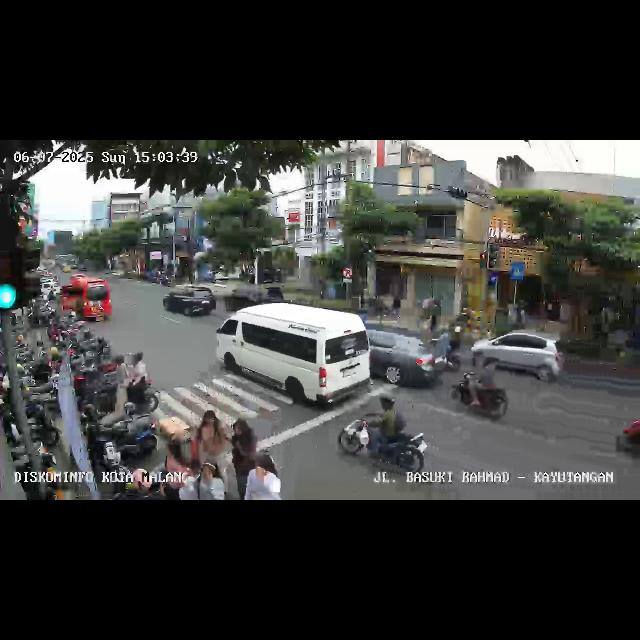car: (216, 301, 372, 414), (368, 323, 454, 393), (472, 330, 562, 386), (58, 278, 112, 324), (162, 284, 216, 320)
motorcycle: (337, 396, 428, 474), (446, 360, 512, 426), (614, 400, 640, 468), (126, 353, 152, 415), (435, 322, 463, 370)
person: (230, 416, 258, 500), (198, 410, 230, 462), (245, 458, 282, 500), (196, 460, 228, 500), (418, 296, 442, 332)
